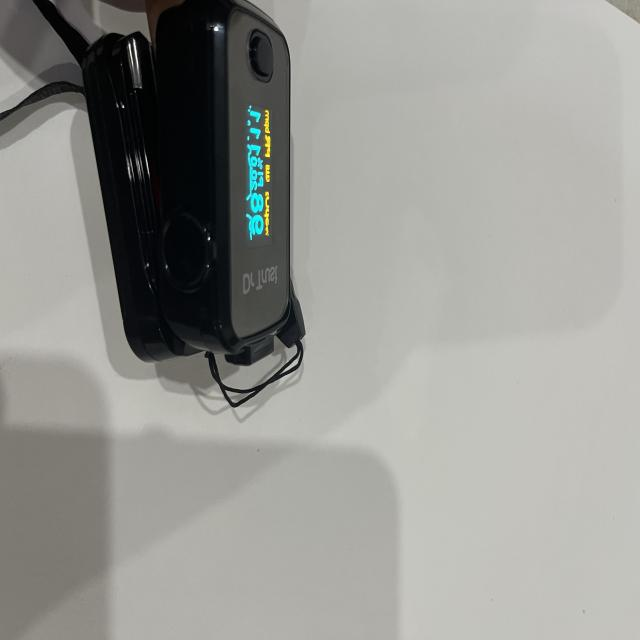spo2: (94, 0, 301, 401)
